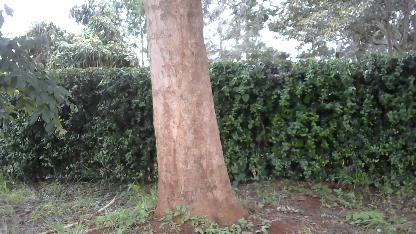tree: (138, 0, 251, 234)
